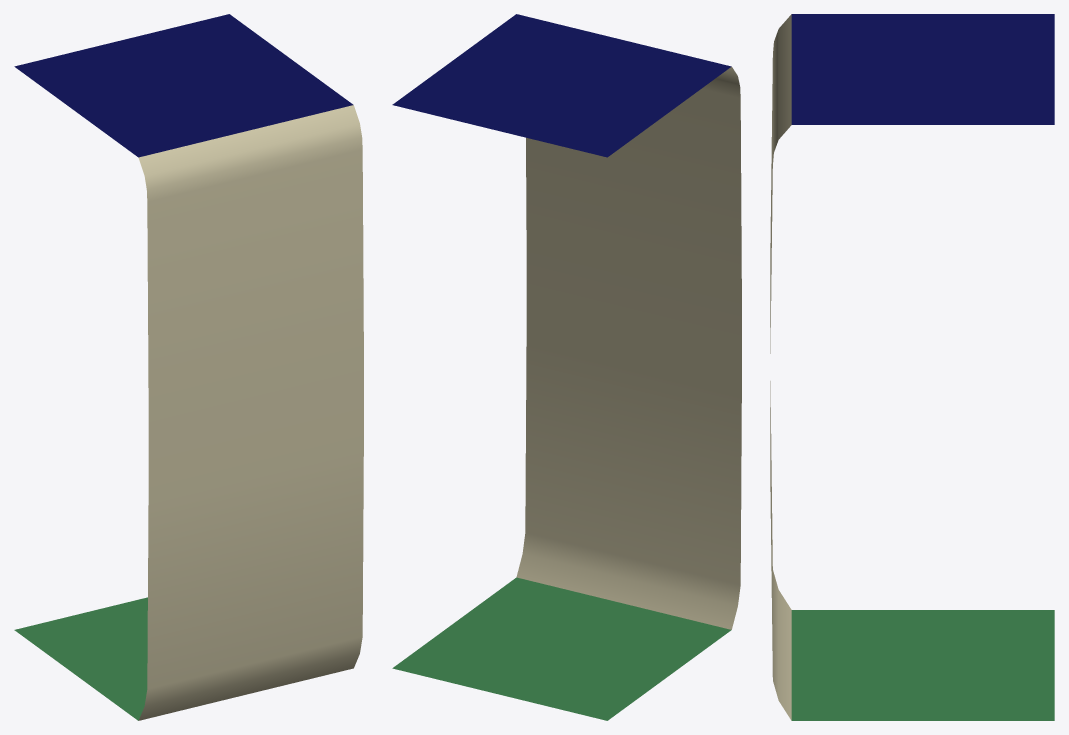
The model's file is ModuleSC_F_side_04.FBX.
The picture shows the model from 3 angles, left to right: view 1: azimuth 30°, elevation 25°; view 2: azimuth 150°, elevation 25°; view 3: azimuth 270°, elevation 25°; orthographic projection. The views are drawn at different scales.
Visible parts, largest first — view 1: F_wall_02 (×2), F_roof_02, ModuleSCs_F_wall_06, ModuleSCs_B_floor_023; view 2: F_wall_02 (×2), F_roof_02, ModuleSCs_B_floor_023, ModuleSCs_F_wall_06; view 3: ModuleSCs_B_floor_023, F_roof_02, F_wall_02 (×2).
Part boxes in pixels (box(x1,y1,x2,y2)): F_wall_02 (×2): box(138, 105, 363, 720); F_roof_02: box(14, 14, 353, 157); ModuleSCs_F_wall_06: box(148, 338, 363, 502); ModuleSCs_B_floor_023: box(14, 597, 147, 720); F_wall_02 (×2): box(516, 66, 741, 629); F_roof_02: box(392, 14, 731, 157); ModuleSCs_B_floor_023: box(392, 577, 731, 720); ModuleSCs_F_wall_06: box(526, 232, 741, 396); ModuleSCs_B_floor_023: box(791, 610, 1054, 720); F_roof_02: box(791, 14, 1054, 124); F_wall_02 (×2): box(770, 14, 791, 720).
Bounding box in the file's own units: 39.37 × 98.43 × 42.55.
